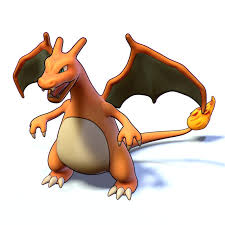charizard: (12, 32, 216, 202)
